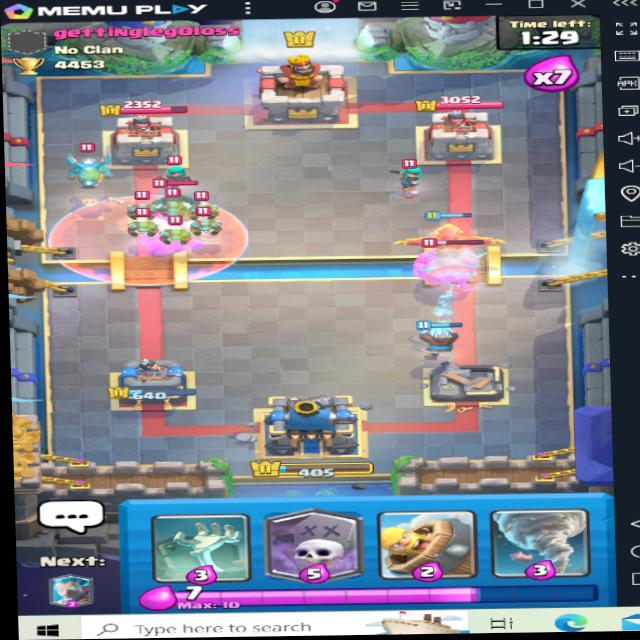bowler: (412, 231, 487, 284)
electro-dragon: (58, 138, 125, 190)
minion: (188, 192, 228, 218), (188, 214, 230, 236), (124, 195, 164, 215), (159, 192, 190, 217), (156, 219, 191, 241), (125, 212, 156, 235)
rascal-boy: (144, 182, 217, 219)
rascal-girl: (390, 157, 431, 190), (163, 154, 200, 185)
